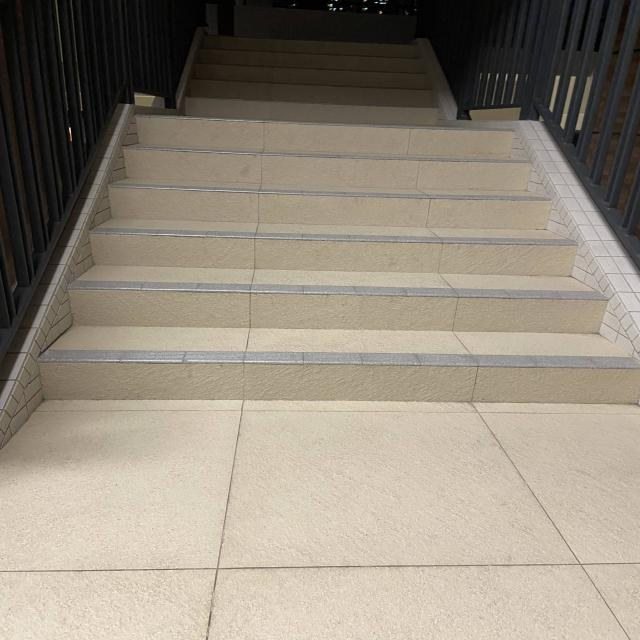Stairs: (37, 91, 640, 414)
